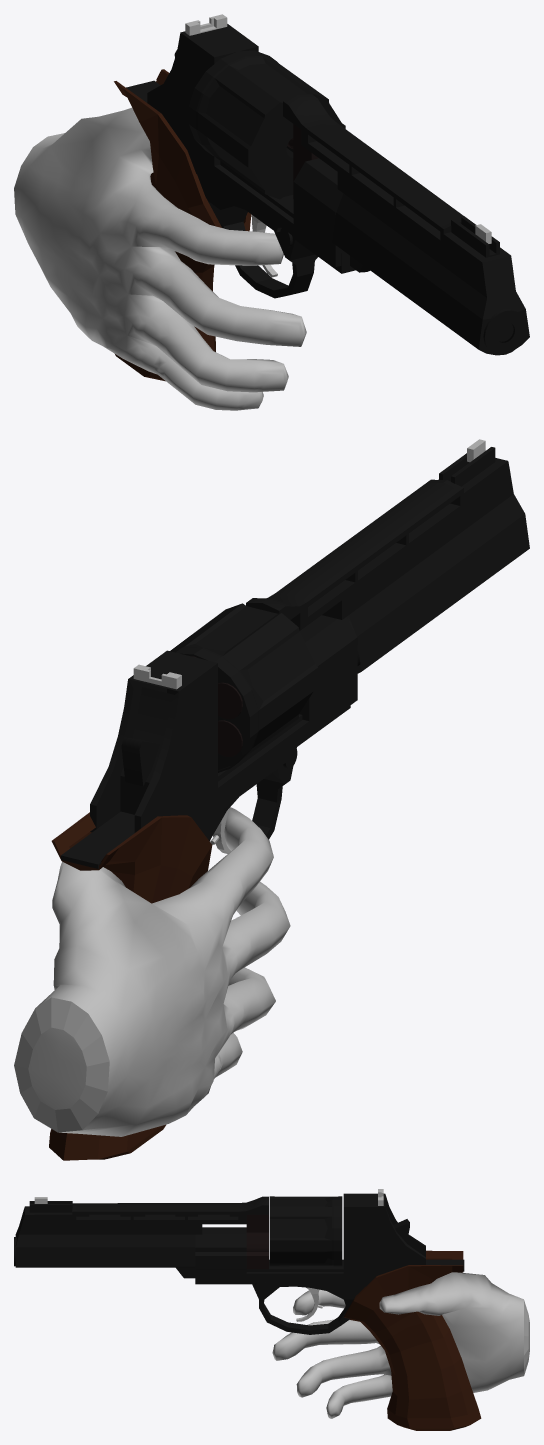
File: mateba-with-hand.obj
3 views of the same model, one above another, from view 1: azimuth 30°, elevation 25°; view 2: azimuth 150°, elevation 25°; view 3: azimuth 270°, elevation 25° (orthographic). The views are drawn at different scales.
Visible parts, largest first — view 1: pCube21; view 2: pCube21; view 3: pCube21.
Part boxes in pixels (box(x1,y1,x2,y2)): pCube21: box(14, 14, 529, 410); pCube21: box(14, 439, 529, 1160); pCube21: box(14, 1189, 529, 1430).
Bounding box in the file's own units: 0.0938 × 0.2252 × 0.4656.
